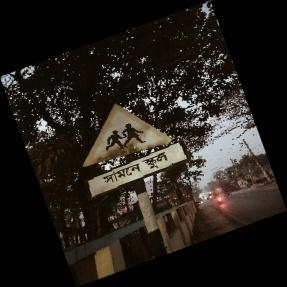School-in-front: (83, 103, 185, 203)
